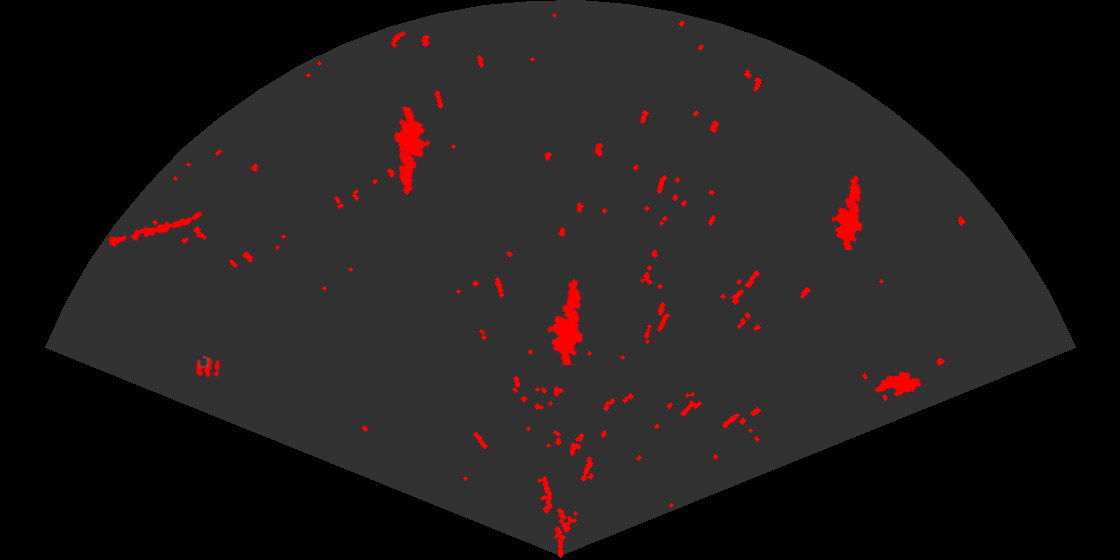AUV: (873, 370, 923, 398)
ball: (194, 354, 221, 379)
chain: (106, 210, 204, 249)
frogman: (392, 107, 432, 196), (545, 277, 585, 365), (830, 174, 864, 250)
